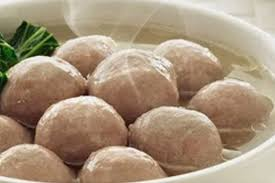bakso: (4, 24, 241, 176)
